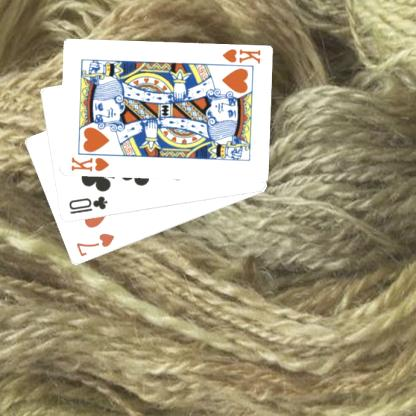10C: (66, 193, 108, 216)
7H: (73, 230, 116, 259)
KH: (219, 47, 262, 65), (68, 155, 110, 173)
